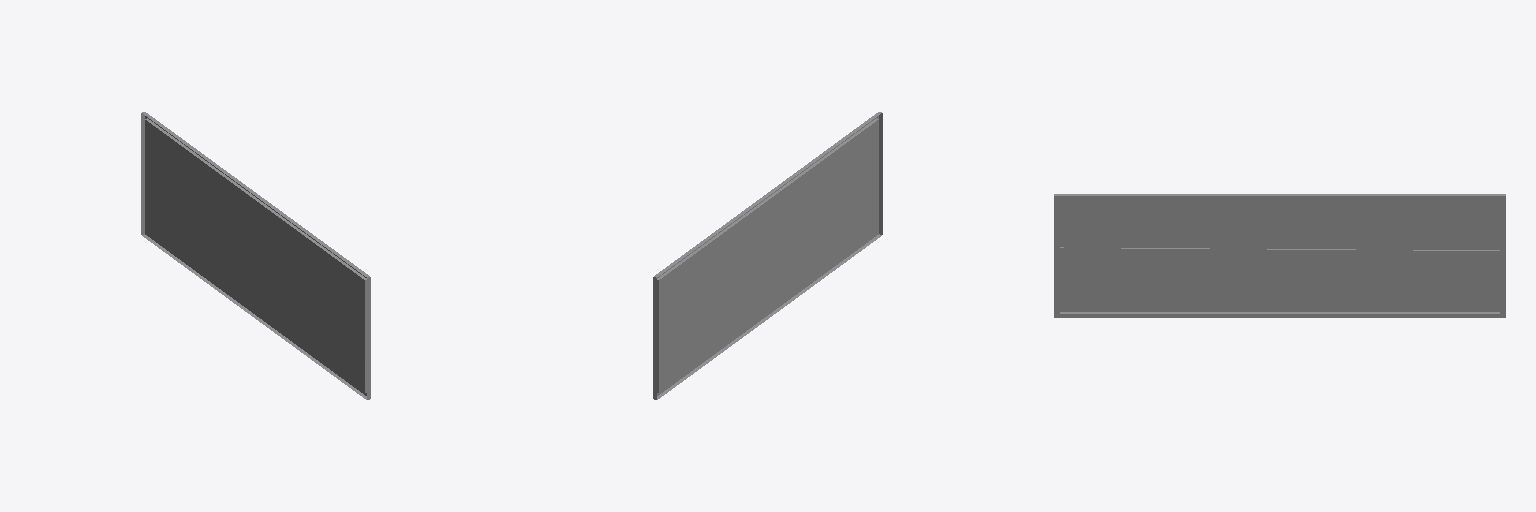
The model's file is hor1_blackboard.obj.
3 renders of one model, left to right at view 1: azimuth 30°, elevation 25°; view 2: azimuth 150°, elevation 25°; view 3: azimuth 270°, elevation 25°, orthographic.
Visible parts, largest first — view 1: library.001_Plane.023; view 2: library.001_Plane.023; view 3: library.001_Plane.023.
Boxes of the visible parts, box(x1,y1,x2,y2) form: library.001_Plane.023: box(141, 112, 370, 399); library.001_Plane.023: box(653, 112, 882, 399); library.001_Plane.023: box(1054, 194, 1505, 317).
Size of the model in its own units: 0.05 by 1.5 by 5.